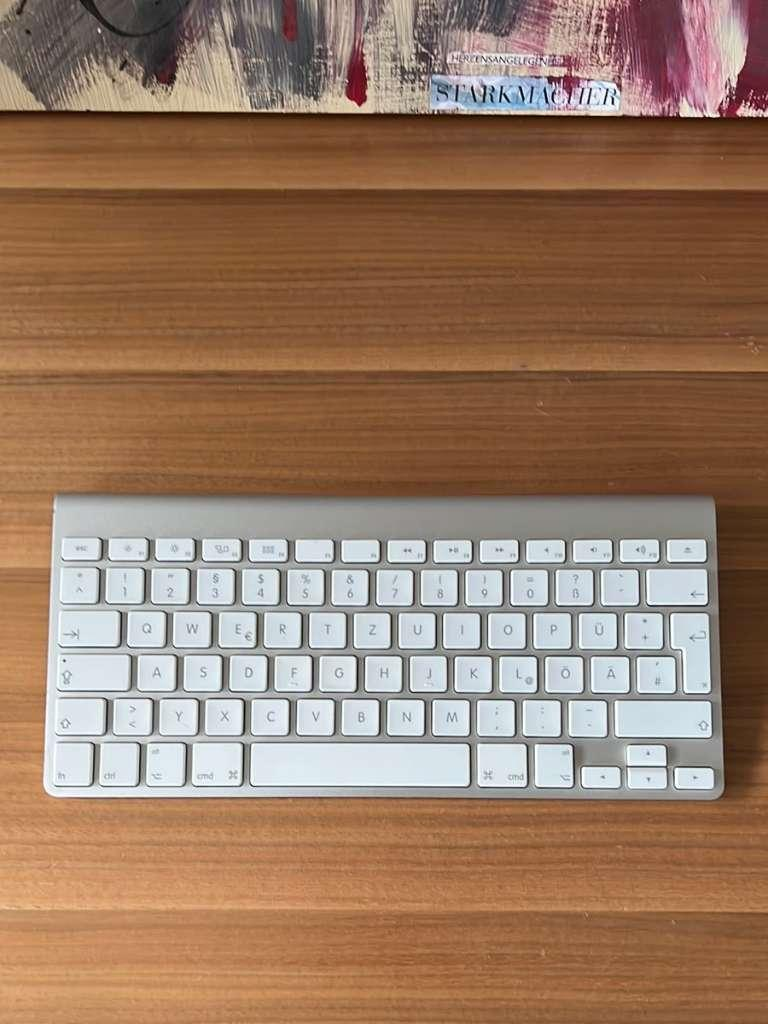0: (508, 567, 549, 605)
1: (104, 565, 145, 604)
2: (149, 566, 190, 604)
3: (194, 566, 235, 605)
4: (240, 566, 280, 605)
5: (285, 567, 325, 605)
6: (329, 567, 369, 606)
7: (374, 567, 414, 606)
8: (419, 567, 458, 606)
9: (463, 567, 503, 606)
a: (135, 652, 176, 691)
accent: (599, 567, 639, 605)
ae: (589, 653, 630, 693)
alt-left: (145, 741, 190, 789)
altgr-right: (532, 743, 576, 789)
b: (339, 696, 380, 735)
c: (249, 695, 290, 736)
caret: (58, 565, 99, 603)
comma: (475, 697, 516, 737)
d: (227, 652, 267, 691)
del: (644, 566, 708, 605)
e: (217, 608, 257, 647)
enter: (667, 609, 711, 694)
f: (273, 653, 312, 691)
g: (317, 653, 357, 691)
h: (363, 652, 402, 692)
hash: (635, 654, 675, 693)
i: (441, 609, 480, 648)
j: (407, 652, 447, 692)
k: (452, 653, 492, 692)
keyboard: (42, 532, 726, 802)
l: (497, 653, 538, 693)
less: (111, 696, 153, 735)
m: (429, 697, 470, 736)
minus: (567, 698, 608, 737)
n: (385, 696, 425, 736)
o: (486, 610, 526, 649)
oe: (543, 653, 584, 693)
p: (531, 610, 571, 649)
plus: (622, 610, 663, 649)
point: (520, 697, 561, 737)
q: (125, 608, 167, 647)
r: (262, 609, 302, 648)
s: (182, 652, 222, 691)
shift-left: (52, 695, 106, 735)
shift-lock: (56, 651, 130, 691)
shift-right: (612, 698, 712, 737)
space: (248, 740, 470, 788)
ss: (553, 567, 594, 605)
strg-left: (97, 742, 142, 790)
t: (307, 609, 346, 648)
tab: (57, 608, 119, 646)
u: (396, 609, 436, 649)
ue: (577, 610, 617, 649)
v: (295, 696, 334, 736)
w: (171, 608, 211, 647)
x: (203, 695, 244, 736)
y: (158, 696, 198, 735)
z: (352, 609, 391, 648)
